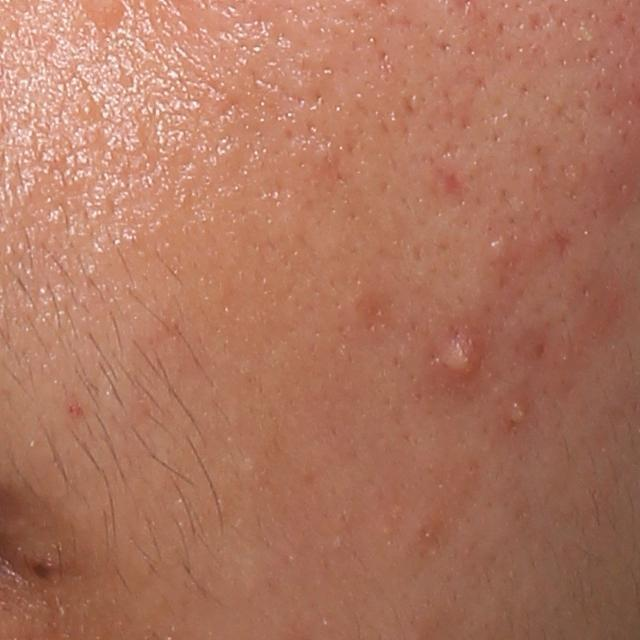comedo: (491, 235, 513, 258)
nevus: (28, 558, 52, 580)
pustule: (436, 331, 484, 383), (501, 392, 529, 428)
